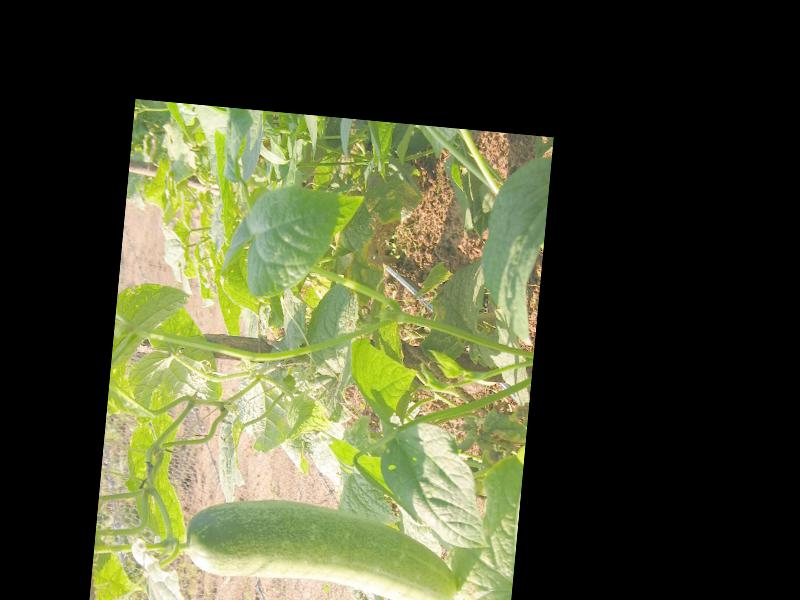Cucumber: (183, 492, 462, 600)
